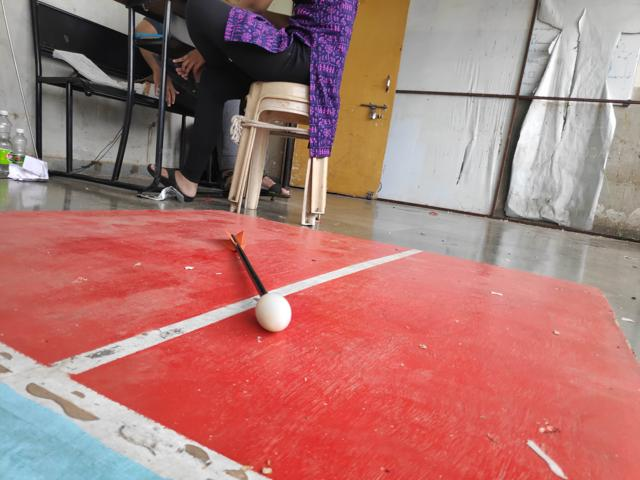Head: (252, 290, 295, 334)
